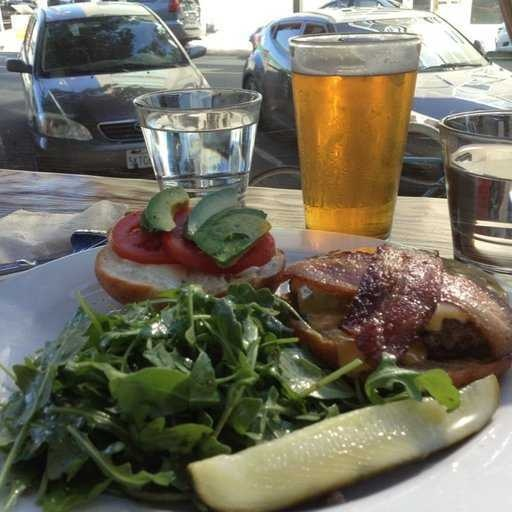hamburger: (277, 232, 499, 384)
